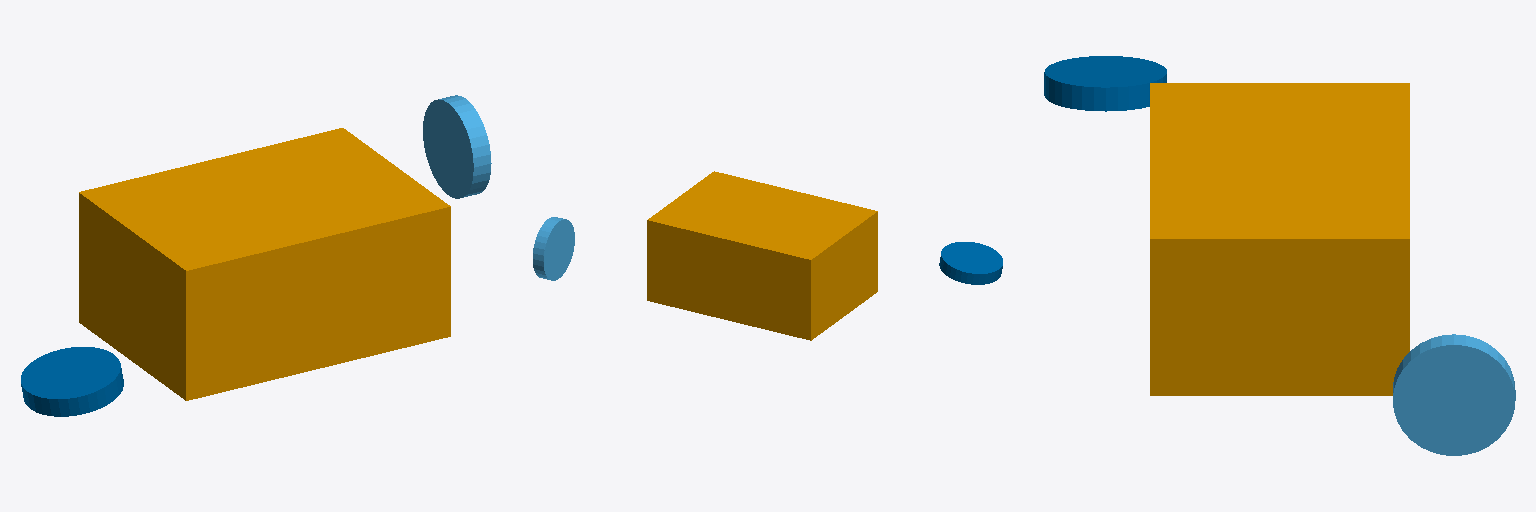
URDF robot description (lwf):
<?xml version="1.0"?>
<robot name="lwf">
    <link name="base_link">
      <visual>
        <geometry>
          <box size="0.432 0.305 0.203" />
        </geometry>
        <origin xyz="0 0 0.072"/>
      </visual>
    </link>
    <link name="wheel_front_left">
      <visual>
        <geometry>
          <cylinder length="0.029" radius="0.072"/>
        </geometry>
        <origin xyz="0.216 0.102 0" rpy="0 1.57 0"/>
      </visual>
    </link>
    <link name="wheel_front_right">
      <visual>
        <geometry>
          <cylinder length="0.029" radius="0.072"/>
        </geometry>
        <origin xyz="-0.216 0.102 0" rpy="0 2.967 0"/>
      </visual>
    </link>
    <link name="wheel_rear_left">
      <visual>
        <geometry>
          <cylinder length="0.029" radius="0.072"/>
        </geometry>
        <origin xyz="0.216 -0.102 0" rpy="0 1.57 0"/>
      </visual>
    </link>
    <link name="wheel_rear_right">
      <visual>
        <geometry>
          <cylinder length="0.029" radius="0.072"/>
        </geometry>
        <origin xyz="-0.216 -0.102 0" rpy="0 2.967 0"/>
      </visual>
  </link>
  <joint name="wheel_front_left_hub" type="continuous">
    <axis xyz="0 1 0"/>
    <origin xyz="0.216 0.102 0.072"/>
    <parent link="base_link"/>
    <child link="wheel_front_left"/>
  </joint>
  <joint name="wheel_front_right_hub" type="continuous">
    <axis xyz="0 1 0"/>
    <origin xyz="0.216 -0.102 0.072"/>
    <parent link="base_link"/>
    <child link="wheel_front_right"/>
  </joint>
  <joint name="wheel_rear_left_hub" type="continuous">
    <axis xyz="0 1 0"/>
    <origin xyz="-0.216 0.102 0.072"/>
    <parent link="base_link"/>
    <child link="wheel_rear_left"/>
  </joint>
  <joint name="wheel_rear_right_hub" type="continuous">
    <axis xyz="0 1 0"/>
    <origin xyz="-0.216 -0.102 0.072"/>
    <parent link="base_link"/>
    <child link="wheel_rear_right"/>
  </joint>
  <collision>
    <geometry>
      <box size="0.461 0.305 0.275" />
    </geometry>
  </collision>
</robot>

--- Render facts (derived) ---
Views: 3 orthographic renders of the robot side by side, from view 1: azimuth 30°, elevation 25°; view 2: azimuth 150°, elevation 25°; view 3: azimuth 270°, elevation 25°.
Model lwf with 5 links and 4 joints (4 continuous), rooted at base_link, posed every joint at zero.
Visible links, largest first — view 1: base_link, wheel_rear_right, wheel_front_left; view 2: base_link, wheel_rear_right, wheel_front_left; view 3: base_link, wheel_front_left, wheel_rear_right.
Link boxes in pixels (x1=…): base_link: x1=79, y1=128, x2=450, y2=400; wheel_rear_right: x1=21, y1=347, x2=123, y2=416; wheel_front_left: x1=423, y1=95, x2=491, y2=198; base_link: x1=647, y1=171, x2=877, y2=340; wheel_rear_right: x1=939, y1=242, x2=1002, y2=284; wheel_front_left: x1=533, y1=217, x2=574, y2=280; base_link: x1=1150, y1=83, x2=1409, y2=395; wheel_front_left: x1=1393, y1=334, x2=1515, y2=455; wheel_rear_right: x1=1044, y1=56, x2=1166, y2=111.
Size in the robot's own frame: 0.952 by 0.552 by 0.203 metres.
Geometry: primitives only (box / cylinder / sphere), no mesh files.